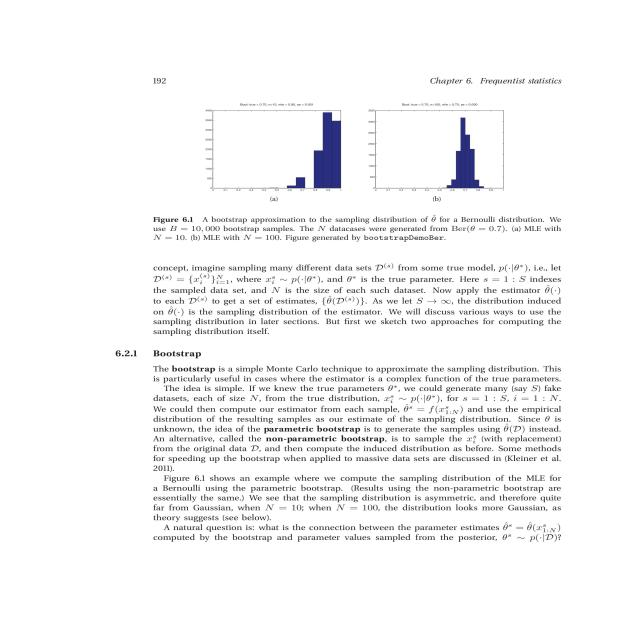diagram: (116, 95, 589, 248)
